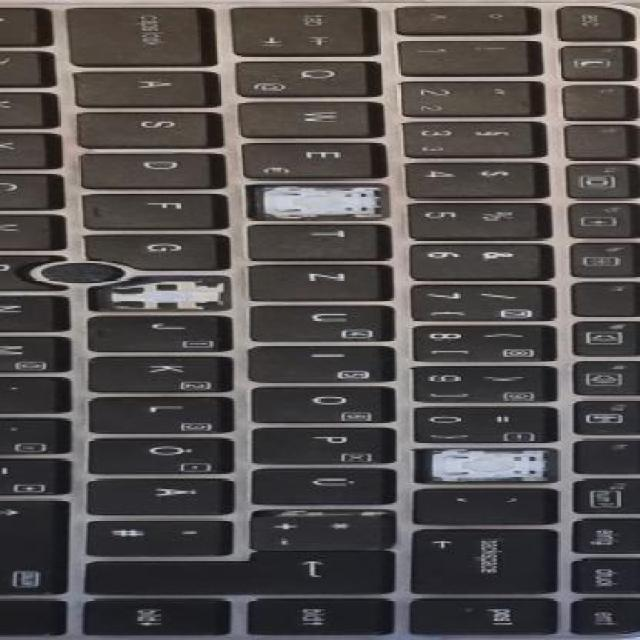Keyboard problems: (246, 185, 388, 218), (415, 449, 555, 482), (98, 277, 228, 311)
